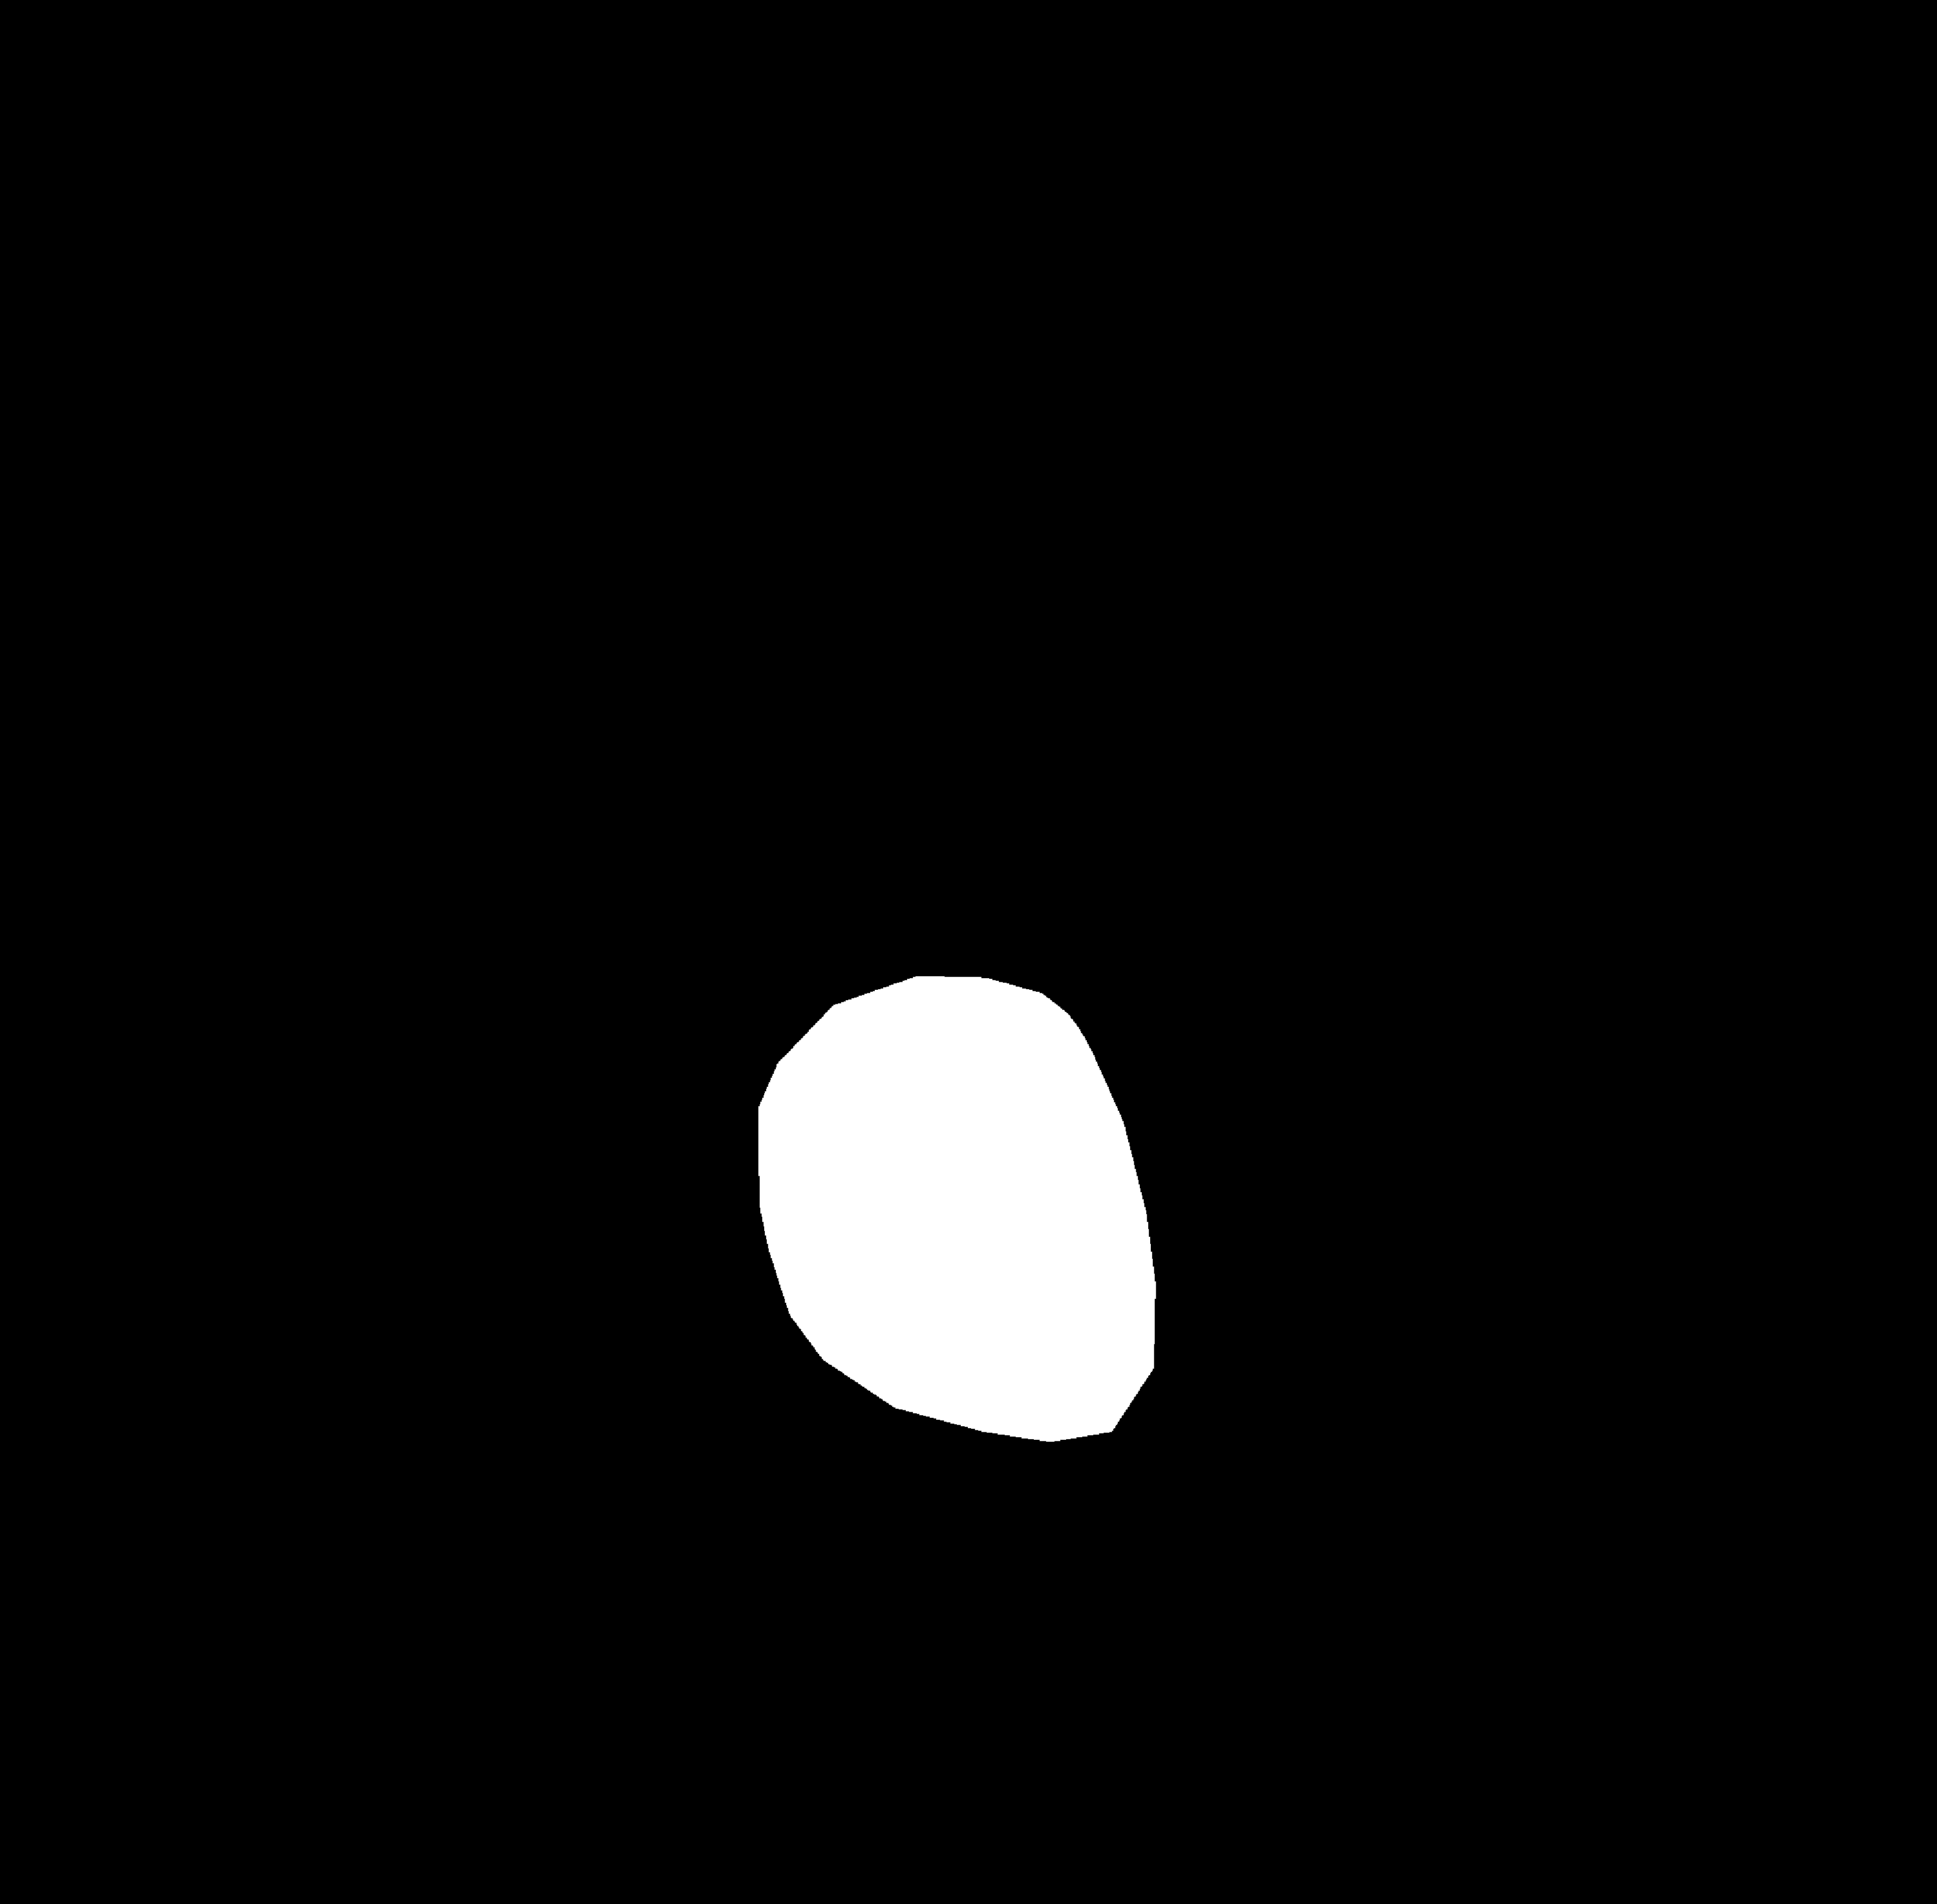heart: (753, 1004, 1152, 1440)
left_lung: (331, 352, 832, 1634)
right_lung: (959, 399, 1421, 1641)
